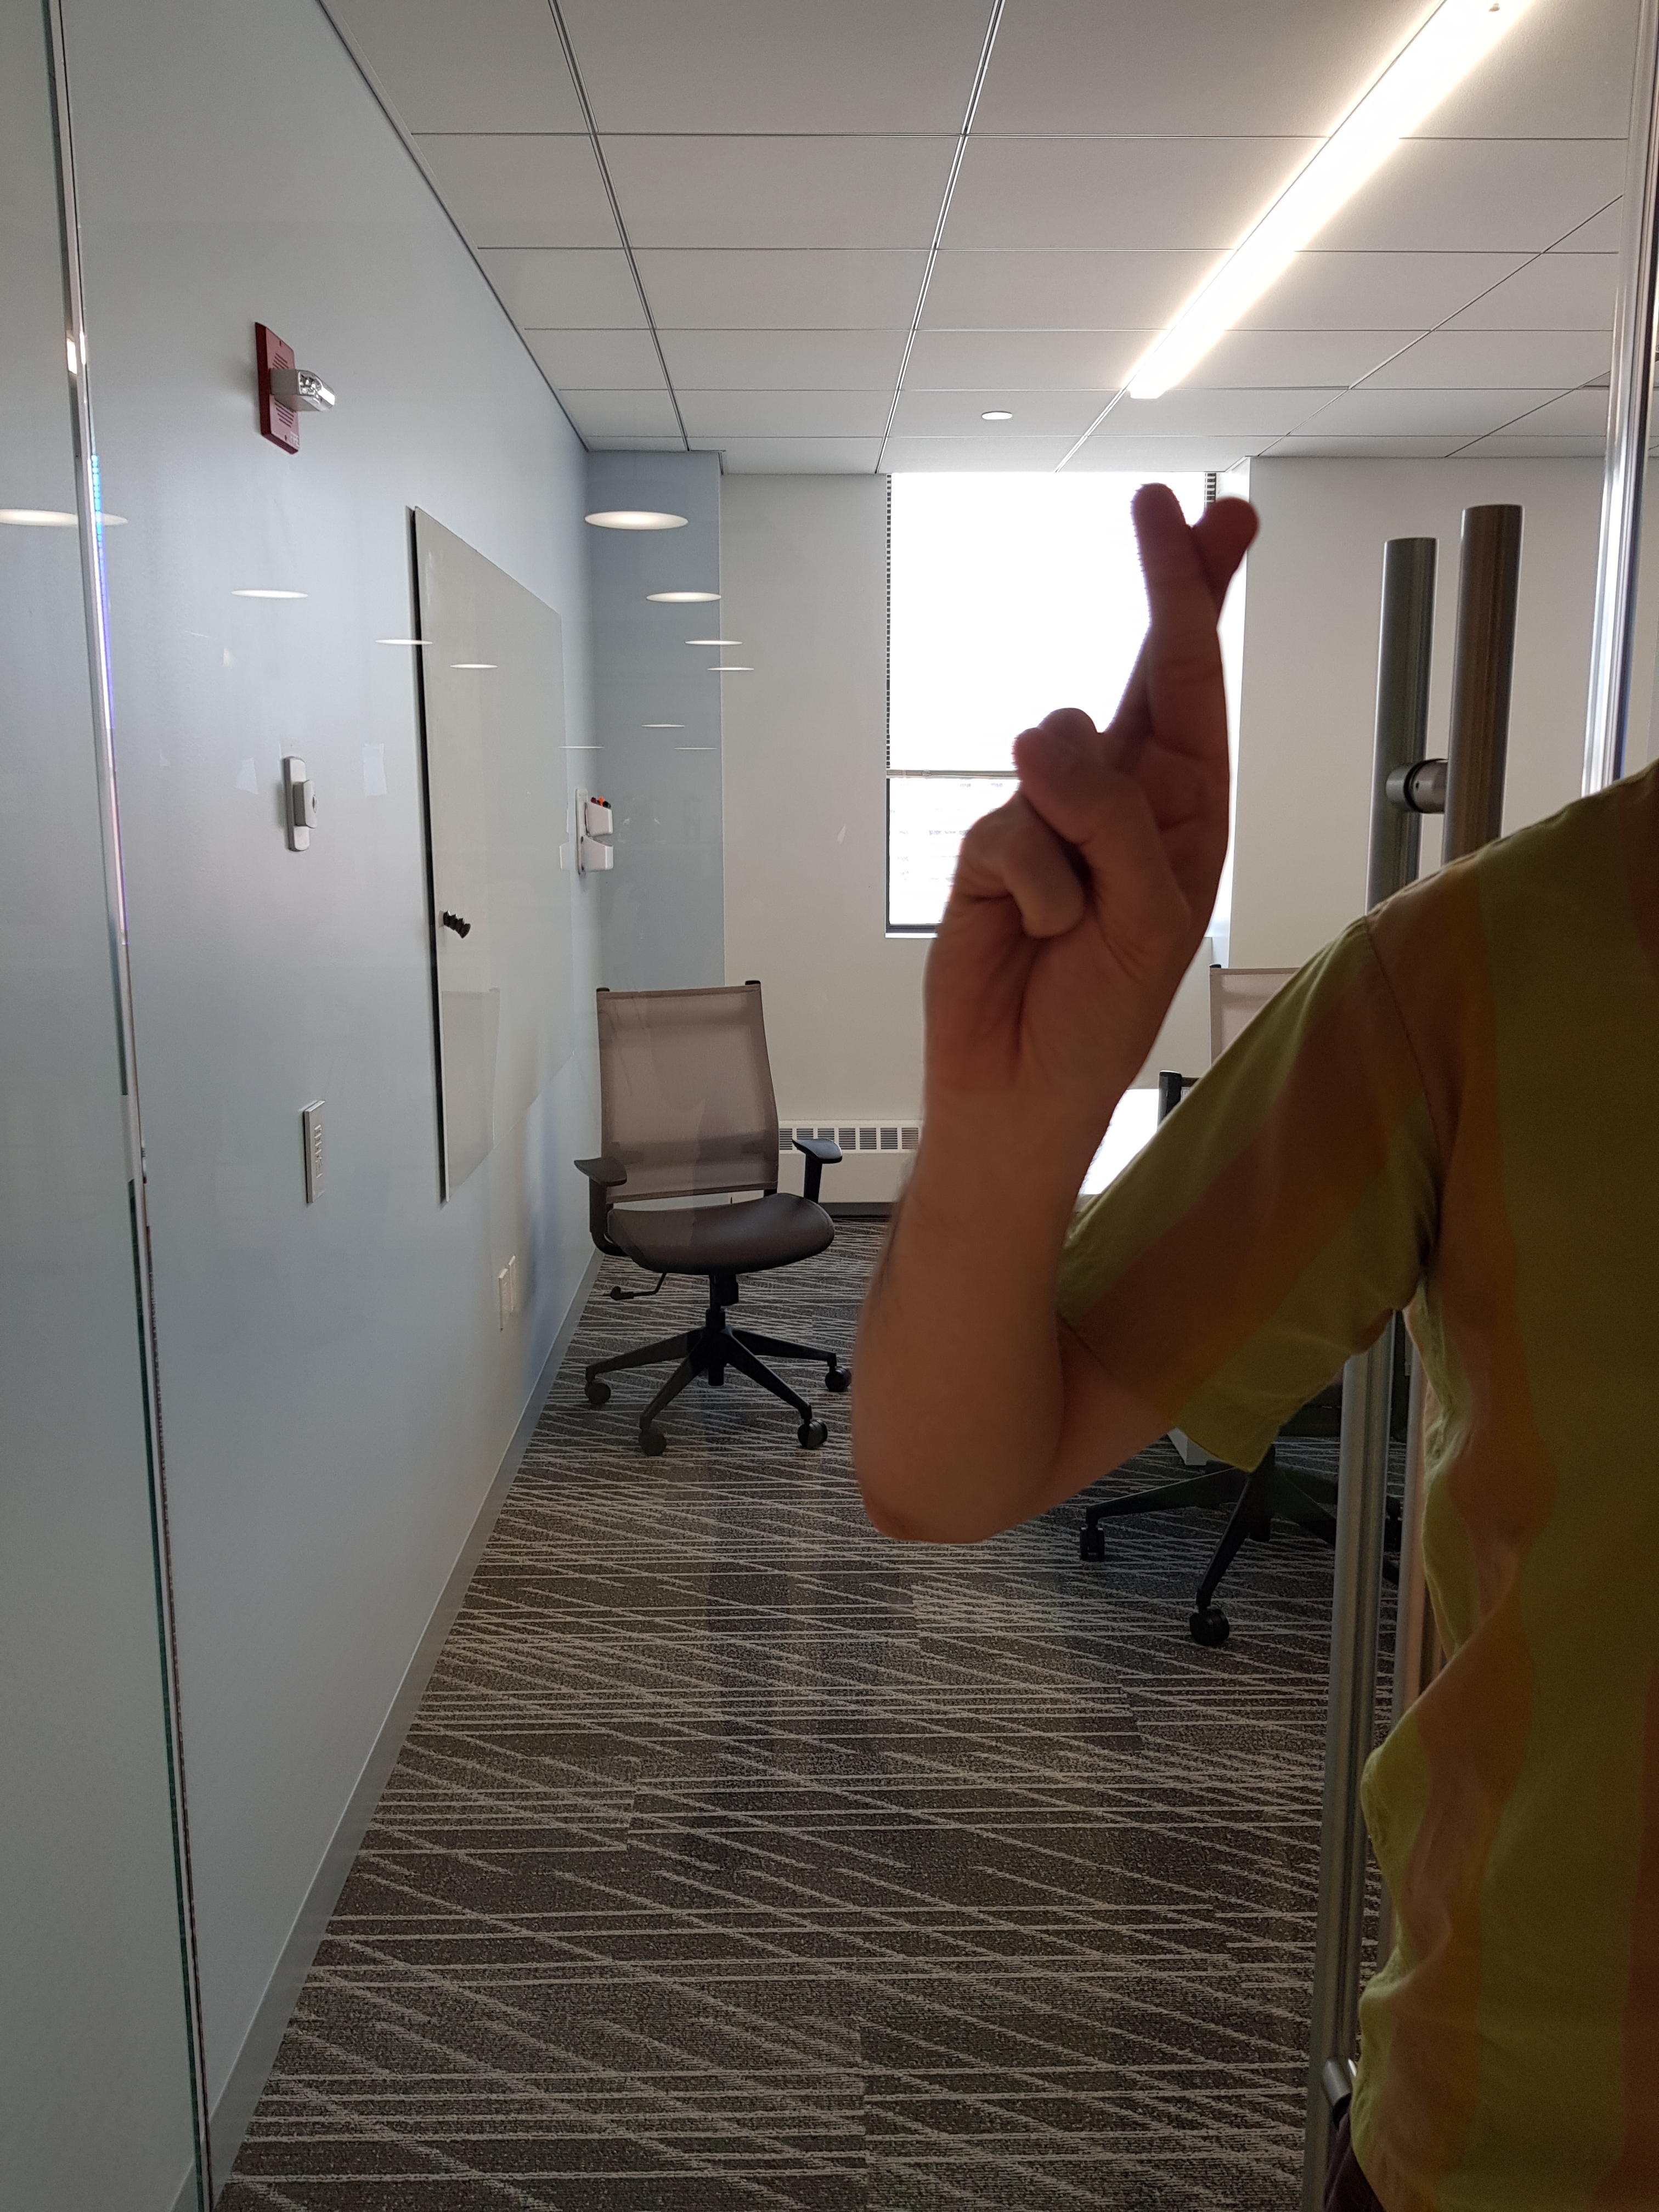r: (887, 469, 1286, 1148)
